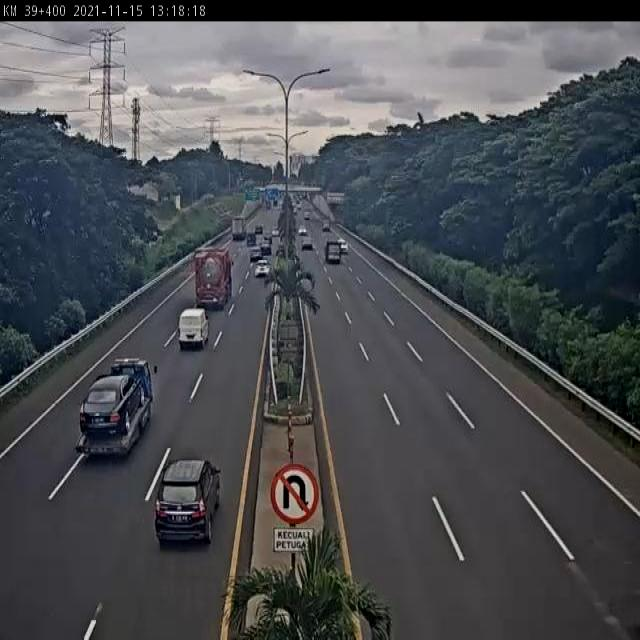Car: (148, 455, 221, 557), (255, 256, 271, 277), (245, 245, 263, 263), (300, 236, 314, 256), (338, 234, 349, 254), (272, 228, 279, 238), (303, 212, 310, 221), (303, 193, 309, 201), (284, 192, 289, 201)
Truck: (74, 348, 156, 468), (189, 238, 232, 312), (232, 216, 246, 241), (327, 240, 342, 262)
Van: (178, 300, 210, 345)
